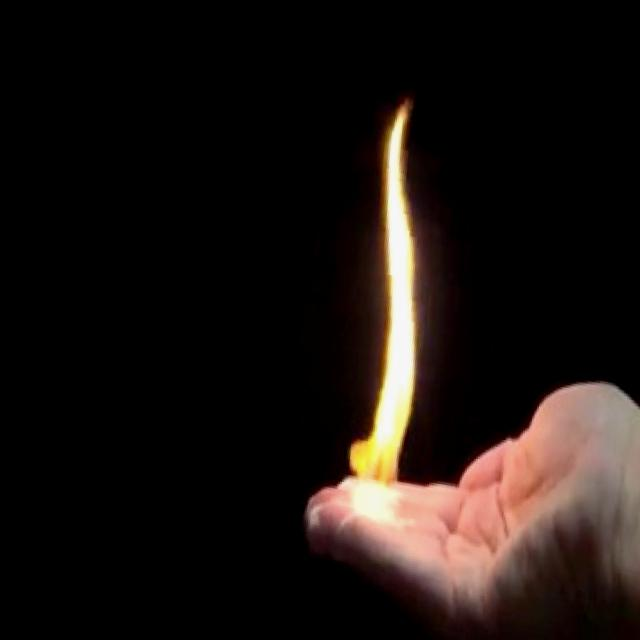Fire: (302, 82, 478, 528)
